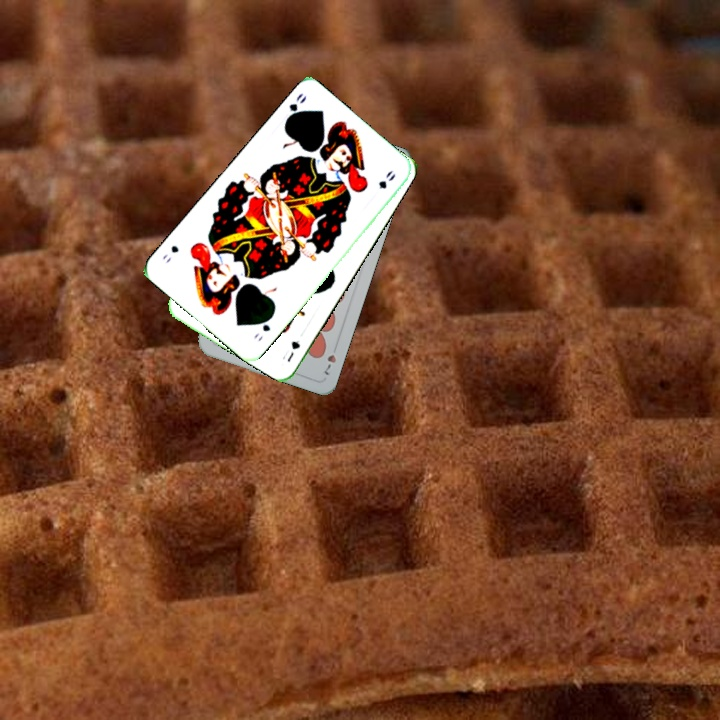GO: (281, 89, 309, 126), (250, 311, 276, 344)
GU: (283, 336, 303, 365)
H7: (319, 340, 340, 378)
